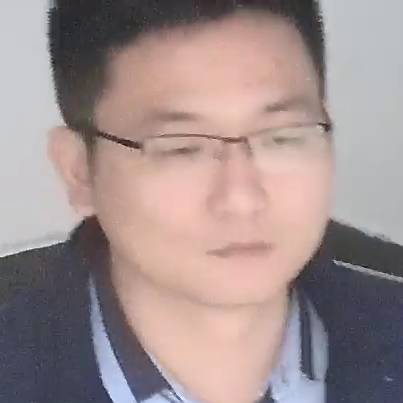guangge: (70, 14, 376, 336)
